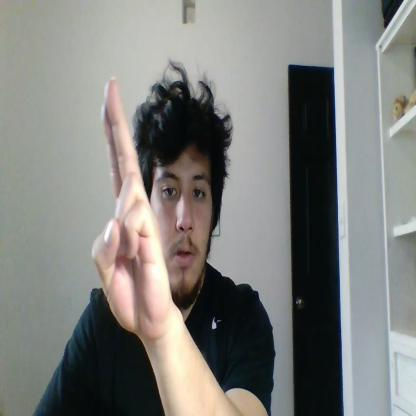U: (92, 76, 172, 336)
